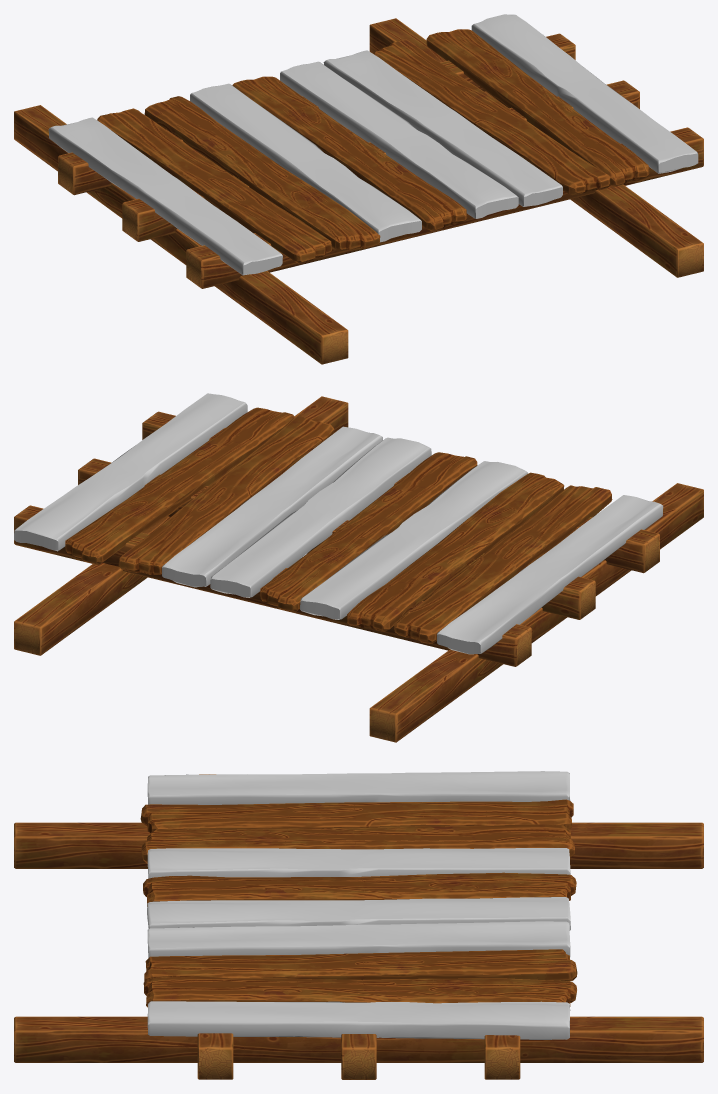
The model's file is Pier_B.fbx.
3 views of the same model, one above another, from view 1: azimuth 30°, elevation 25°; view 2: azimuth 150°, elevation 25°; view 3: azimuth 270°, elevation 25° (orthographic). The views are drawn at different scales.
Visible parts, largest first — view 1: Tabua_G_B_LP.001; view 2: Tabua_G_B_LP.001; view 3: Tabua_G_B_LP.001.
Boxes of the visible parts, x1,y1,x2,y2 form: Tabua_G_B_LP.001: [14, 14, 703, 364]; Tabua_G_B_LP.001: [14, 393, 703, 742]; Tabua_G_B_LP.001: [14, 771, 703, 1079].
Size of the model in its own units: 540 by 67.17 by 573.
